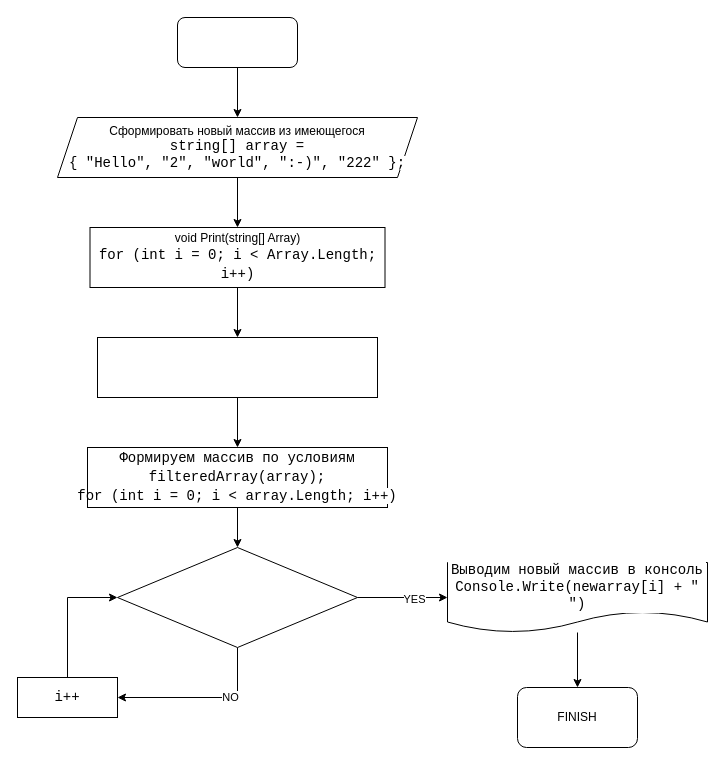
Image size: 725x765. Some labels were removed from this diagram. Here are the shapes that lost their labels. From the top down, the centre of each, then its label:
(237,42): Start
(237,367): Выводим на печать имеющийся массив Print(array);
(237,597): if (array[i].Length <= 3)
